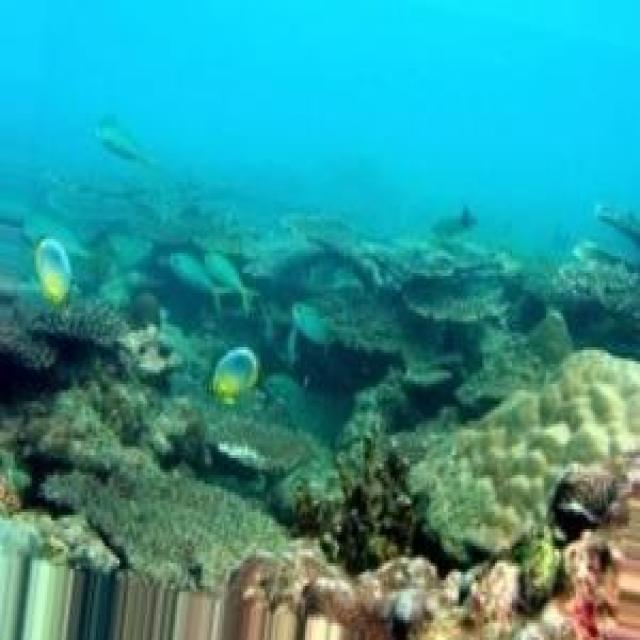bleached coral: (431, 353, 640, 549), (277, 558, 463, 631)
healthy coral: (301, 245, 497, 387), (170, 258, 288, 397), (145, 423, 277, 544), (531, 214, 640, 346), (94, 122, 228, 225), (0, 247, 124, 356)
